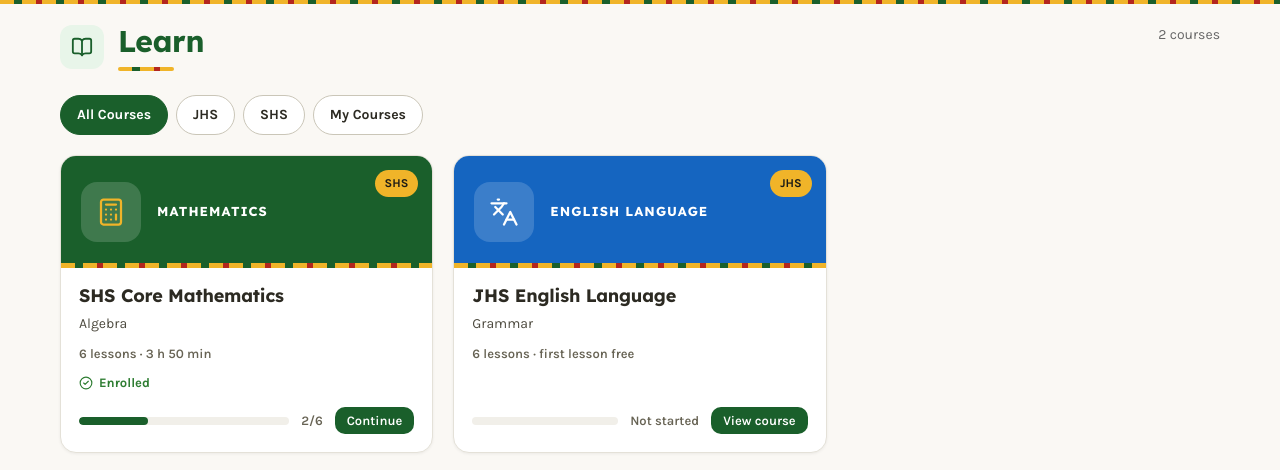
Learn (CourseGrid) › My courses loads enrolled courses
Expected: the link "JHS English Language" is shown, [472,284,676,306]
Step 1. Click the button "My Courses" → {"x": 368, "y": 114}, box [313,94,423,134]
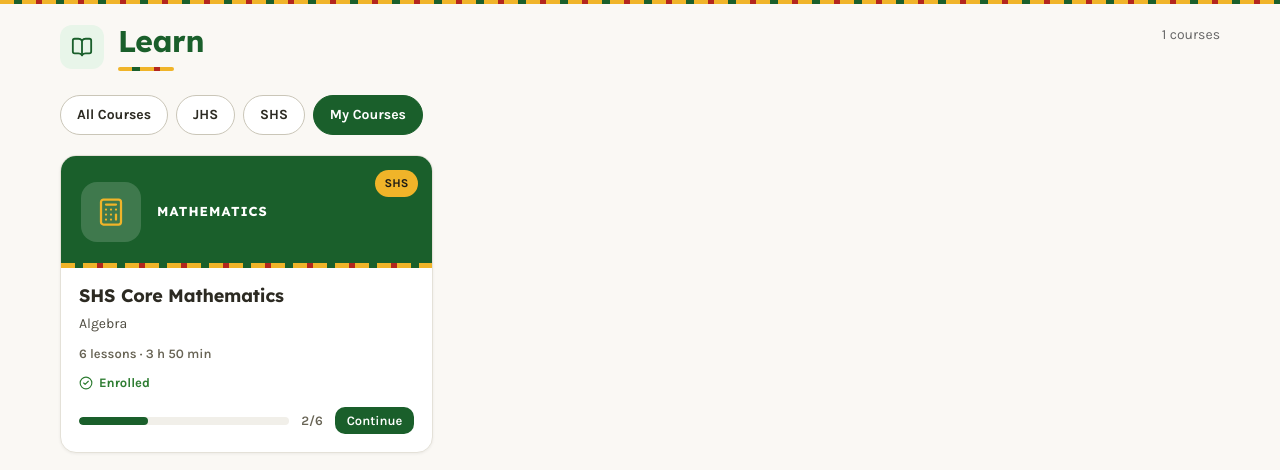
Expected: the link "SHS Core Mathematics" is shown, [79,284,284,306]
Now the link "JHS English Language" is gone
